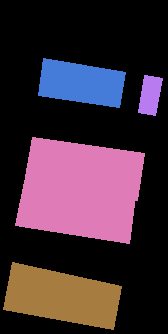parkingspot: (3, 262, 121, 329), (15, 178, 135, 243), (24, 137, 144, 200), (38, 58, 125, 107), (138, 75, 162, 115)
